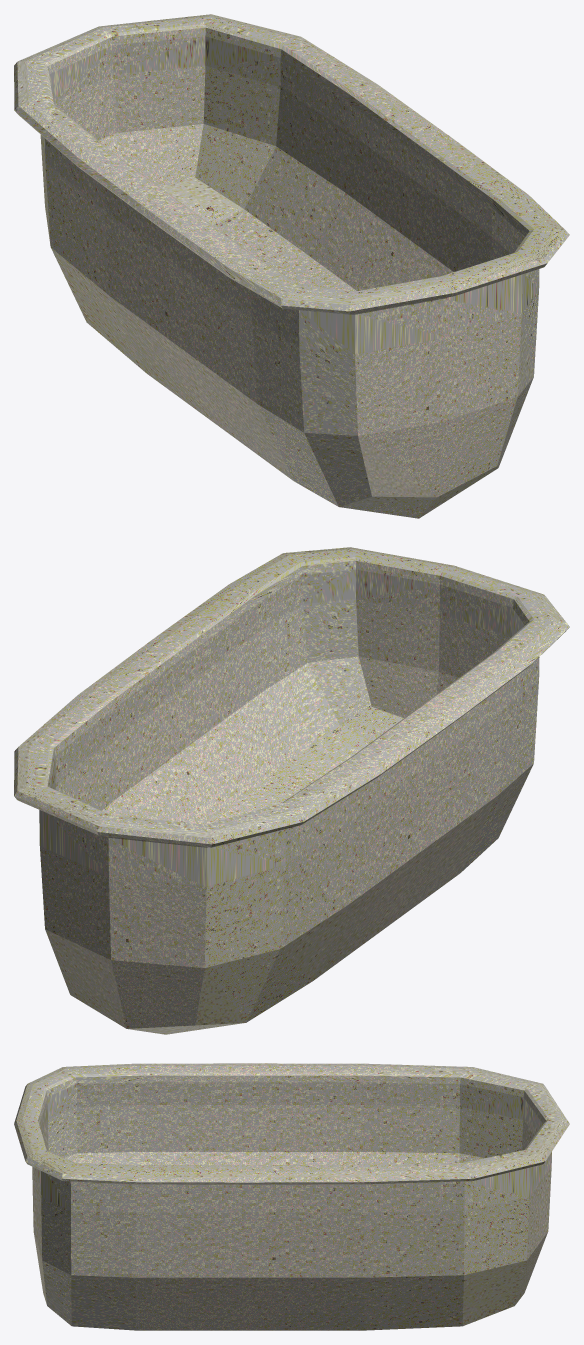
The model's file is bath.glb.
3 views of the same model, one above another, from view 1: azimuth 30°, elevation 25°; view 2: azimuth 150°, elevation 25°; view 3: azimuth 270°, elevation 25° (orthographic). The views are drawn at different scales.
Visible parts, largest first — view 1: env_bath-col; view 2: env_bath-col; view 3: env_bath-col.
Boxes of the visible parts, left/top/right/bottom form: env_bath-col: left=14, top=14, right=569, bottom=518; env_bath-col: left=14, top=547, right=569, bottom=1034; env_bath-col: left=14, top=1063, right=569, bottom=1330.
Size of the model in its own units: 2.47 by 2.02 by 4.97.
1 material, 1 textured.
